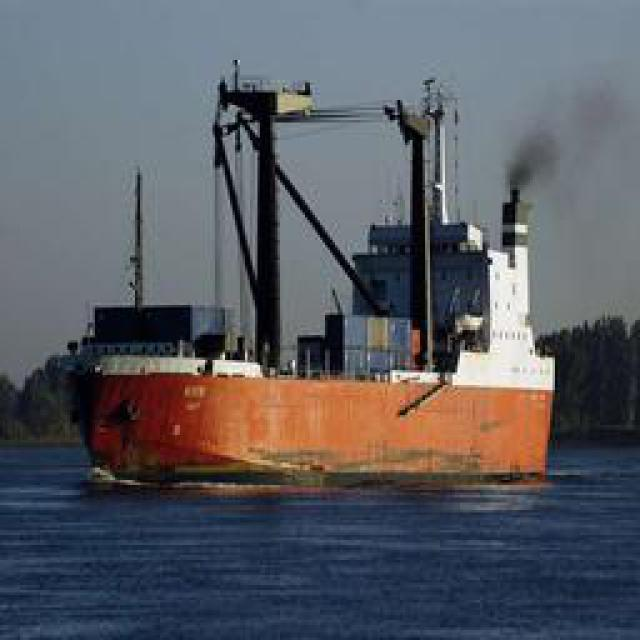Ship: (77, 351, 555, 489)
